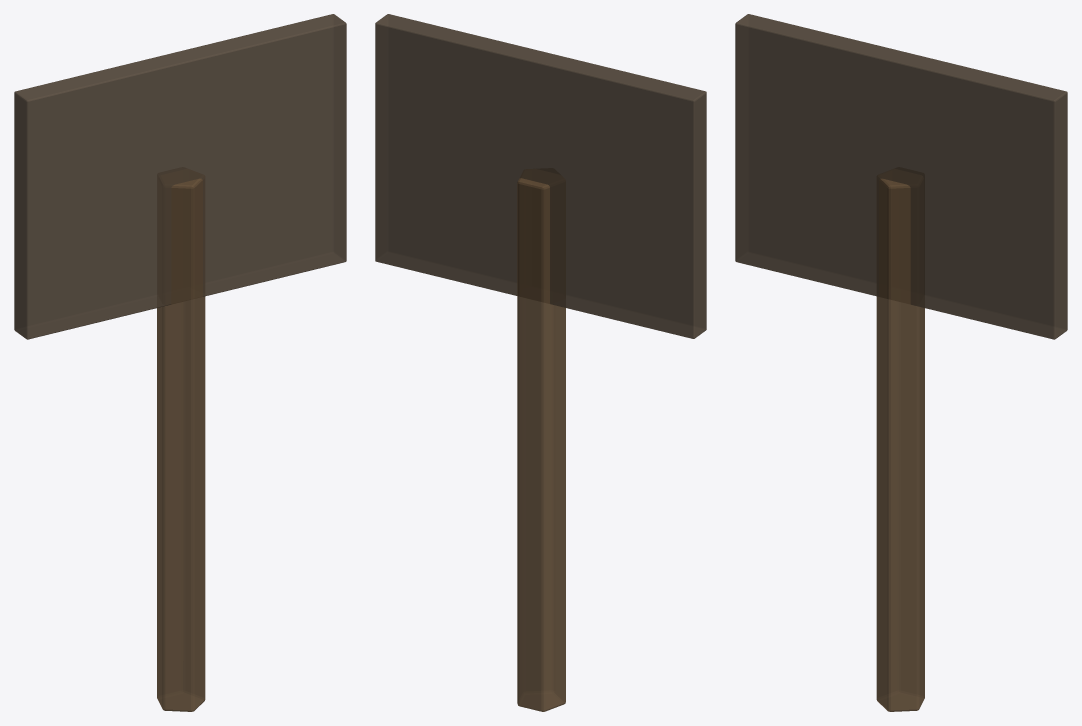
Rendered from farm_sign.glb.
3 views of the same model, side by side, from view 1: azimuth 30°, elevation 25°; view 2: azimuth 150°, elevation 25°; view 3: azimuth 330°, elevation 25° (orthographic).
Visible parts, largest first — view 1: farm_sign_part_1, farm_sign_part_0; view 2: farm_sign_part_1, farm_sign_part_0; view 3: farm_sign_part_1, farm_sign_part_0.
Part boxes in pixels (bbox=[...]): farm_sign_part_1: bbox=[14, 14, 346, 339]; farm_sign_part_0: bbox=[157, 169, 205, 711]; farm_sign_part_1: bbox=[375, 14, 706, 338]; farm_sign_part_0: bbox=[517, 169, 565, 711]; farm_sign_part_1: bbox=[735, 14, 1067, 339]; farm_sign_part_0: bbox=[876, 169, 924, 711].
Bounding box in the file's own units: 0.7 × 1.35 × 0.0888.
